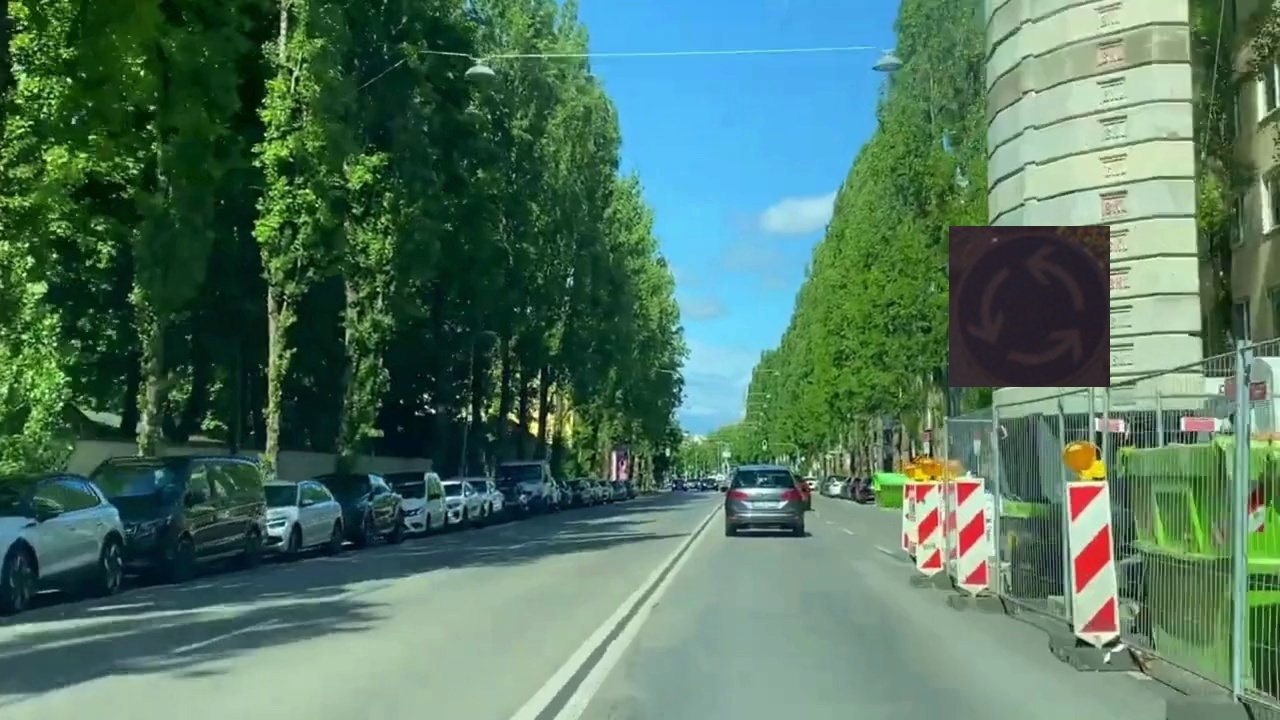Roundabout: (949, 226, 1110, 387)
